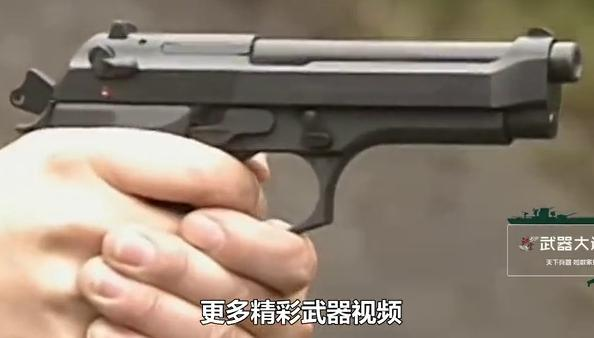gun: (1, 1, 594, 338)
